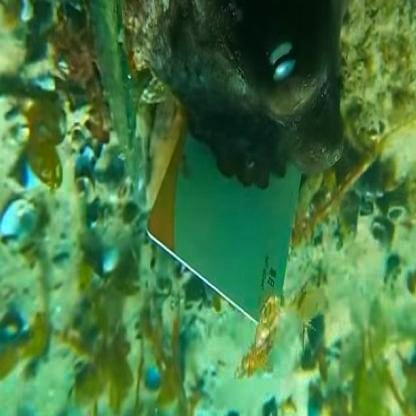misc: (131, 118, 310, 336)
